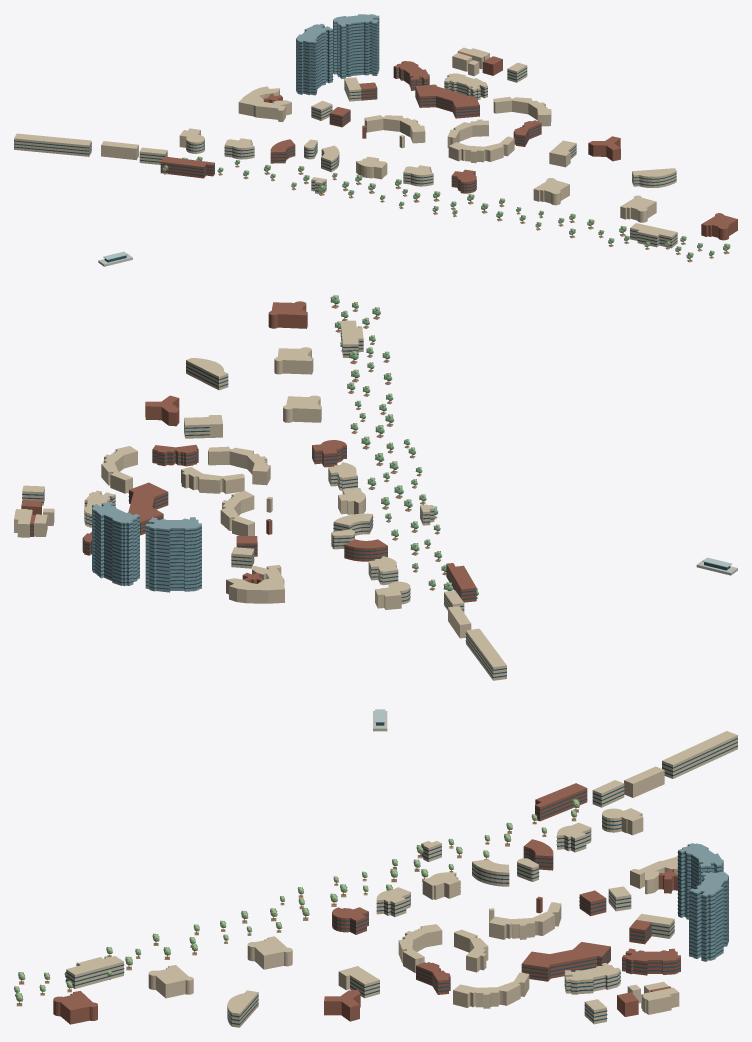
3 renders of one model, top to bottom at view 1: azimuth 30°, elevation 25°; view 2: azimuth 150°, elevation 25°; view 3: azimuth 270°, elevation 25°, orthographic. The views are drawn at different scales.
Visible parts, largest first — view 1: osm-way-673517954, osm-way-673517953, osm-way-673517961, osm-way-964420088, osm-way-837781307, osm-way-804795622, osm-way-804795623, osm-way-804795620, osm-way-964420104, osm-way-964420112, osm-way-673517956, osm-way-964452001 (+14 smaller); view 2: osm-way-673517953, osm-way-673517954, osm-way-837781307, osm-way-804795622, osm-way-673517961, osm-way-754767164, osm-way-804795620, osm-way-804795623, osm-way-964420088, osm-way-952180431, osm-way-952180430, osm-way-952180429 (+11 smaller); view 3: osm-way-673517954, osm-way-673517961, osm-way-673517953, osm-way-964420088, osm-way-804795620, osm-way-804795623, osm-way-673517955, osm-way-673517956, osm-way-964420112, osm-way-804795622, osm-way-964420104, osm-way-952180429 (+19 smaller).
Boxes of the visible parts, x1,y1,x2,y2 form: osm-way-673517954: (333,14,379,78); osm-way-673517953: (296,23,333,95); osm-way-673517961: (415,84,479,118); osm-way-964420088: (14,133,91,156); osm-way-837781307: (238,86,291,121); osm-way-804795622: (448,136,514,163); osm-way-804795623: (364,115,425,143); osm-way-804795620: (493,96,551,126); osm-way-964420104: (160,156,214,178); osm-way-964420112: (630,223,677,248); osm-way-673517956: (444,73,487,99); osm-way-964452001: (632,168,676,187); osm-way-673517953: (145,517,201,592); osm-way-673517954: (92,502,139,585); osm-way-837781307: (226,565,284,603); osm-way-804795622: (208,446,270,485); osm-way-673517961: (127,482,168,535); osm-way-754767164: (181,467,244,493); osm-way-804795620: (101,446,137,493); osm-way-804795623: (220,491,254,535); osm-way-964420088: (465,628,506,680); osm-way-952180431: (268,301,307,328); osm-way-952180430: (274,347,313,374); osm-way-952180429: (283,395,321,422); osm-way-673517954: (689,871,728,961); osm-way-673517961: (521,942,610,981); osm-way-673517953: (677,843,723,919); osm-way-964420088: (662,731,737,778); osm-way-804795620: (453,972,529,1008); osm-way-804795623: (489,902,561,939); osm-way-673517955: (622,948,680,975); osm-way-673517956: (564,963,620,994); osm-way-964420112: (66,956,124,988); osm-way-804795622: (398,924,442,972); osm-way-964420104: (535,783,587,821); osm-way-952180429: (247,936,292,969).
Size of the model in its own units: 716 by 70.3 by 696.
